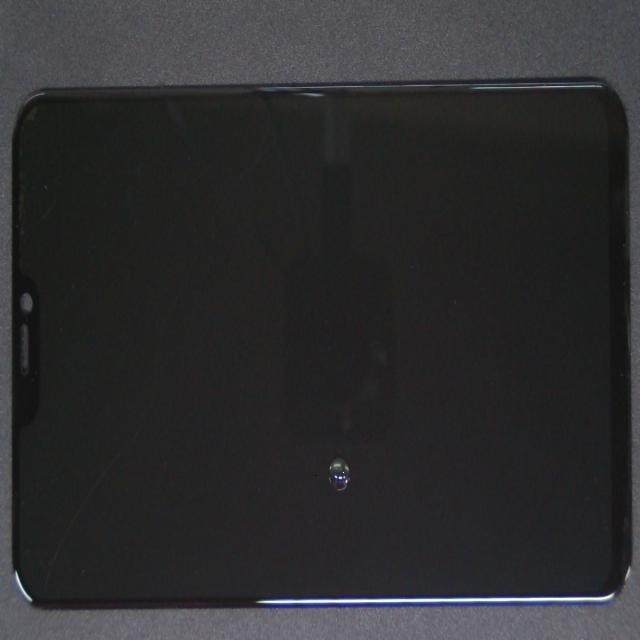oil: (148, 211, 483, 640)
